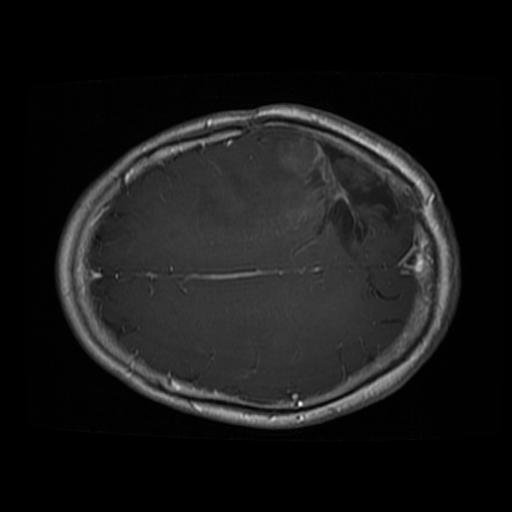glioma: (274, 133, 405, 254)
